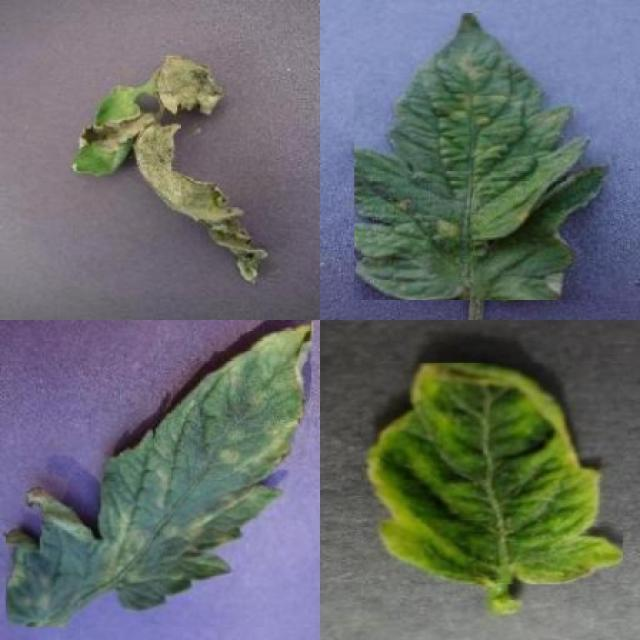Late Blight: (74, 57, 270, 282)
Leaf Mold: (5, 320, 312, 627), (355, 13, 611, 300)
Yellow Leaf Curl Virus: (363, 363, 623, 584)
